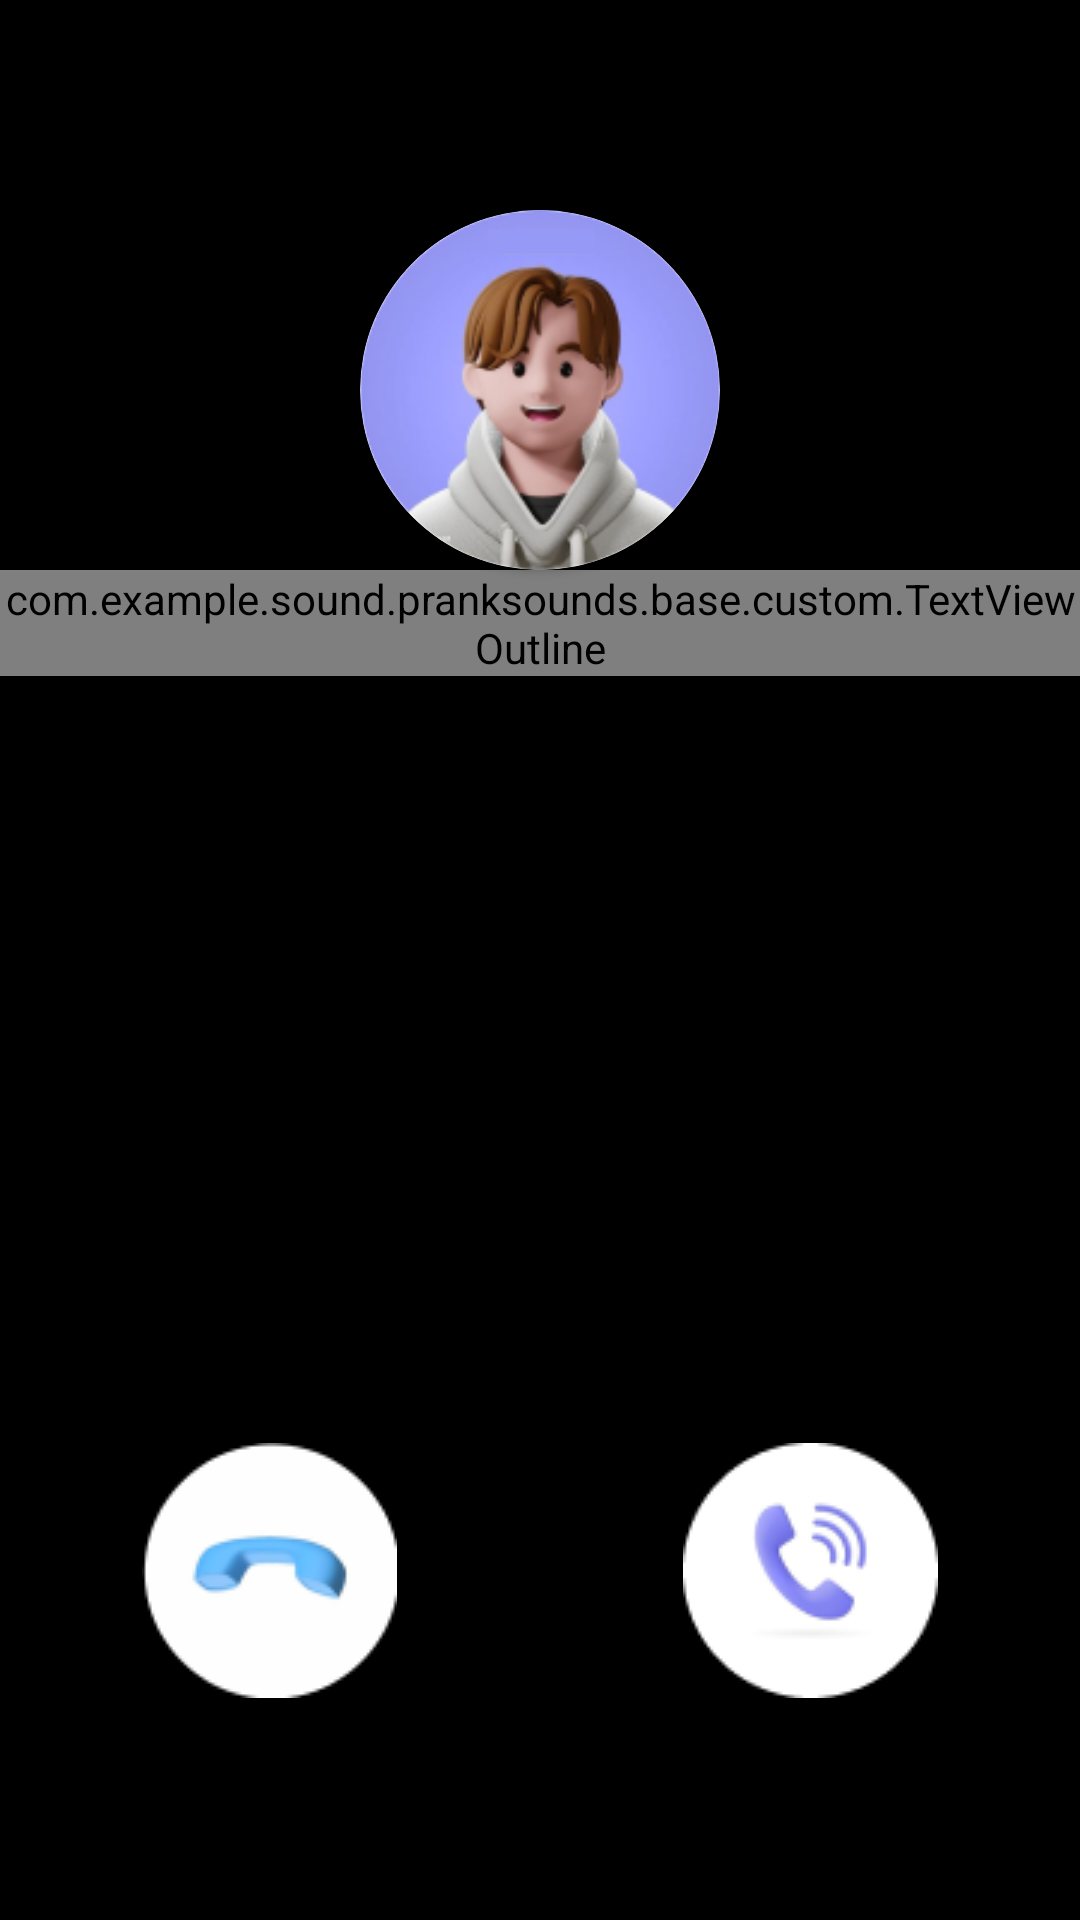

Icons on this 1080*1920 Android screen, each with the point to tap as (x=x, y=y):
avater: (x=540, y=390)
call: (x=270, y=1570), (x=810, y=1570)
